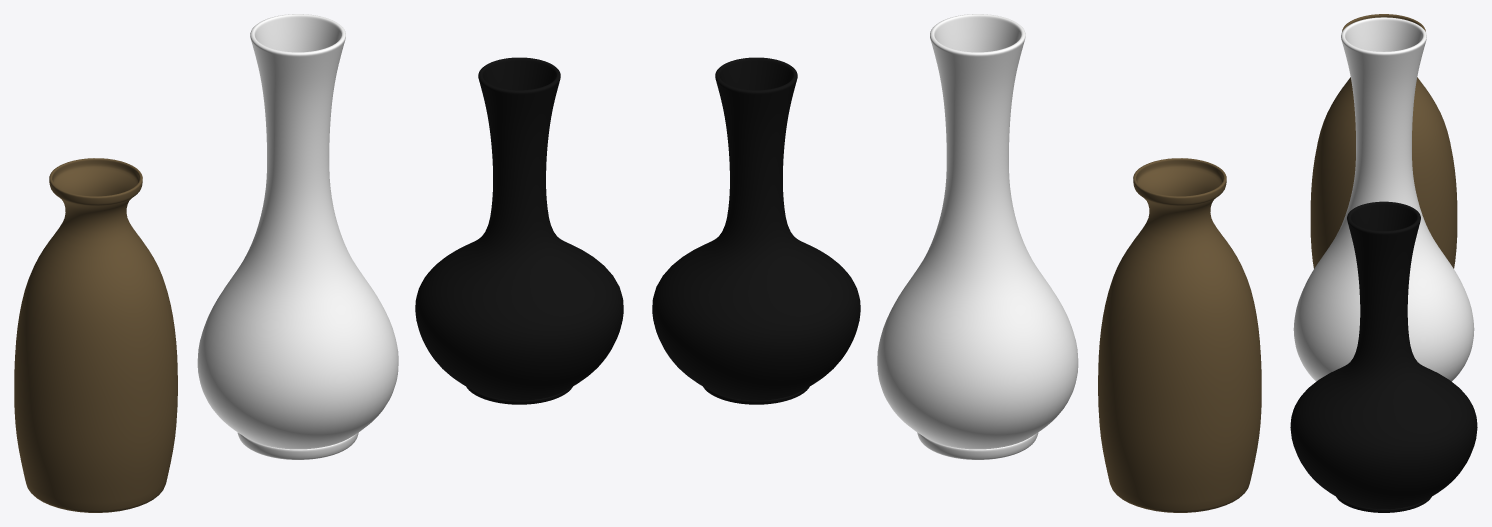
The model's file is Vases 2.FBX.
The picture shows the model from 3 angles, left to right: view 1: azimuth 30°, elevation 25°; view 2: azimuth 150°, elevation 25°; view 3: azimuth 270°, elevation 25°; orthographic projection. The views are drawn at different scales.
Parts seen in each view (by area): view 1: Vase 3, Vase 4, Vase 2; view 2: Vase 3, Vase 4, Vase 2; view 3: Vase 2, Vase 3, Vase 4.
Boxes of the visible parts, x1=… form: Vase 3: x1=197, y1=14, x2=398, y2=459; Vase 4: x1=14, y1=158, x2=177, y2=512; Vase 2: x1=415, y1=57, x2=623, y2=404; Vase 3: x1=877, y1=14, x2=1078, y2=459; Vase 4: x1=1098, y1=158, x2=1261, y2=512; Vase 2: x1=652, y1=57, x2=860, y2=404; Vase 2: x1=1290, y1=201, x2=1477, y2=512; Vase 3: x1=1293, y1=17, x2=1474, y2=381; Vase 4: x1=1310, y1=14, x2=1457, y2=268.
Bounding box in the file's own units: 35.88 × 11.09 × 23.61.
